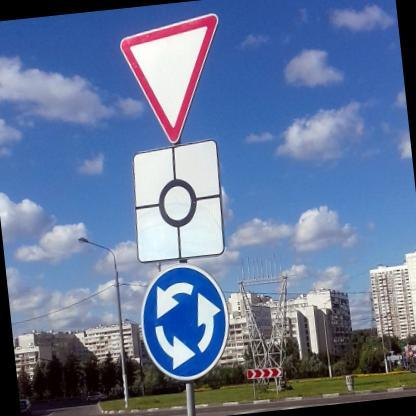road_sign: (120, 14, 219, 145), (133, 142, 227, 265), (140, 265, 230, 383)
